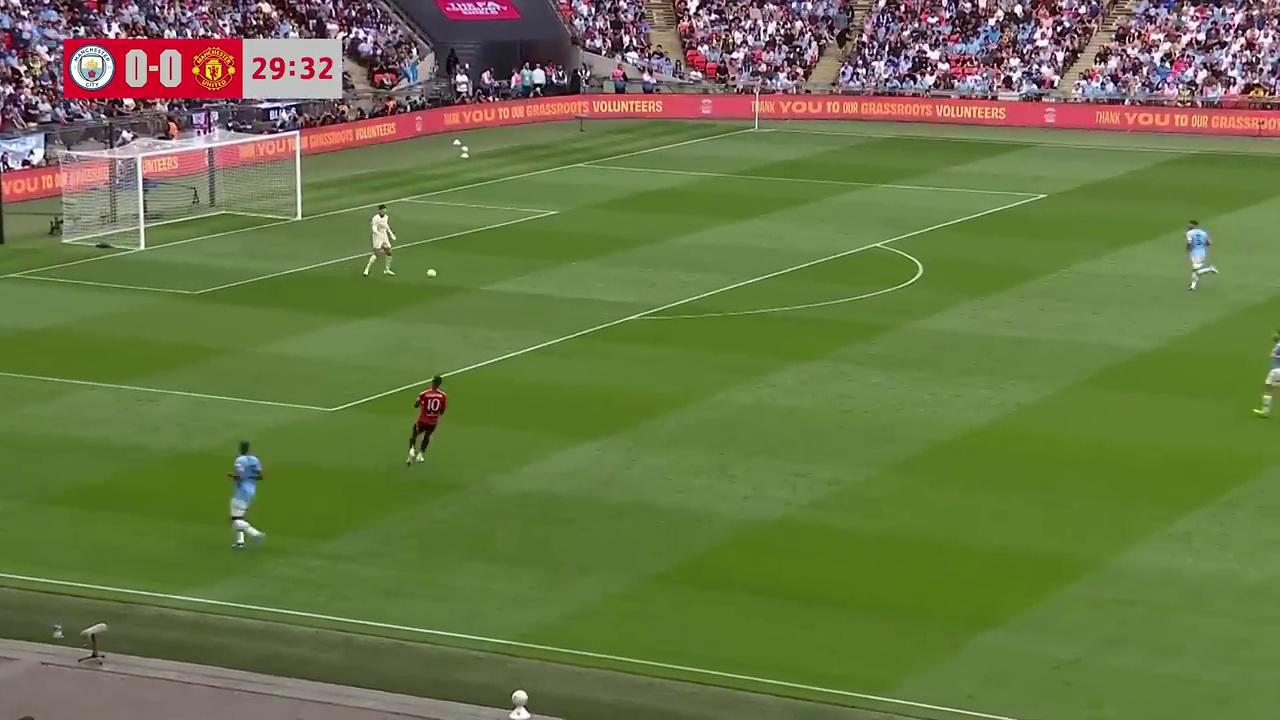ball: (424, 265, 437, 279)
player: (226, 440, 264, 547), (405, 376, 447, 466), (362, 204, 397, 277), (1184, 219, 1217, 290), (1253, 332, 1280, 415)
